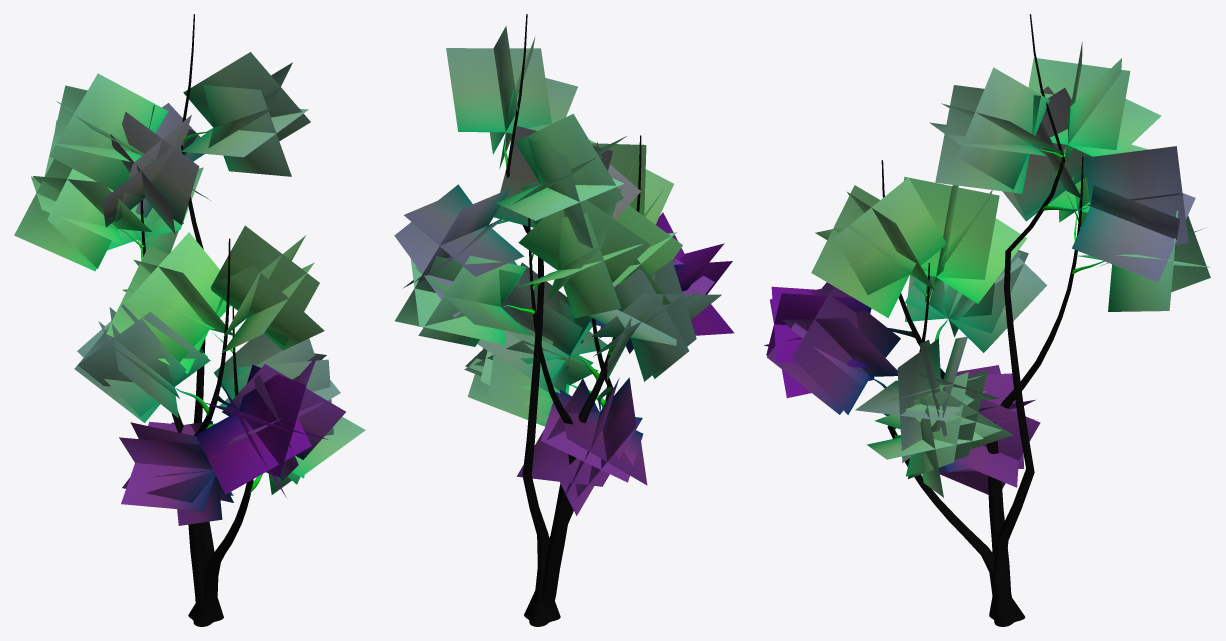
The model's file is URP_P6_Tree_9_LOD_0.fbx.
The picture shows the model from 3 angles, left to right: view 1: azimuth 30°, elevation 25°; view 2: azimuth 150°, elevation 25°; view 3: azimuth 270°, elevation 25°; orthographic projection. The views are drawn at different scales.
Visible parts, largest first — view 1: Tree_9_LOD_0; view 2: Tree_9_LOD_0; view 3: Tree_9_LOD_0.
Part boxes in pixels (left/top/right/bottom): Tree_9_LOD_0: left=14, top=14, right=365, bottom=626; Tree_9_LOD_0: left=394, top=14, right=734, bottom=626; Tree_9_LOD_0: left=764, top=14, right=1210, bottom=626.
Bounding box in the file's own units: 457 × 1075 × 721.
